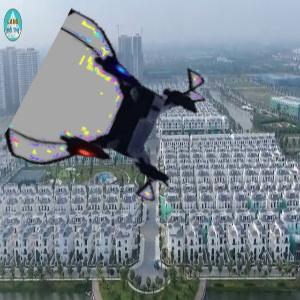drone: (28, 28, 202, 202)
